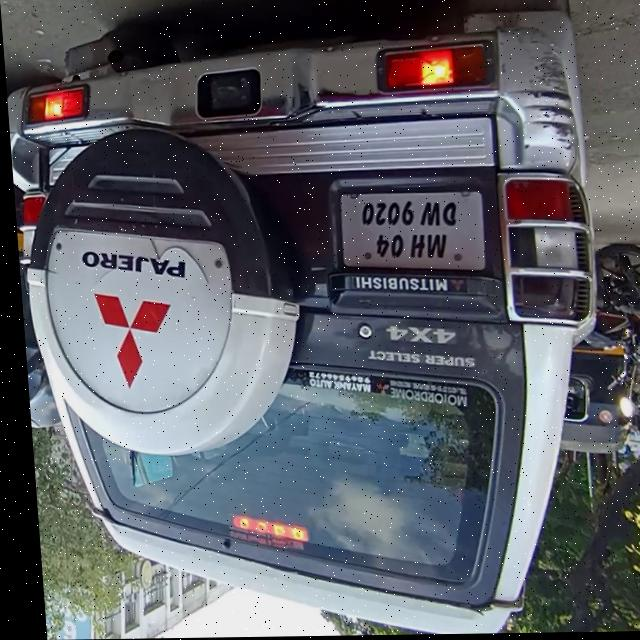plate: (334, 187, 482, 275)
